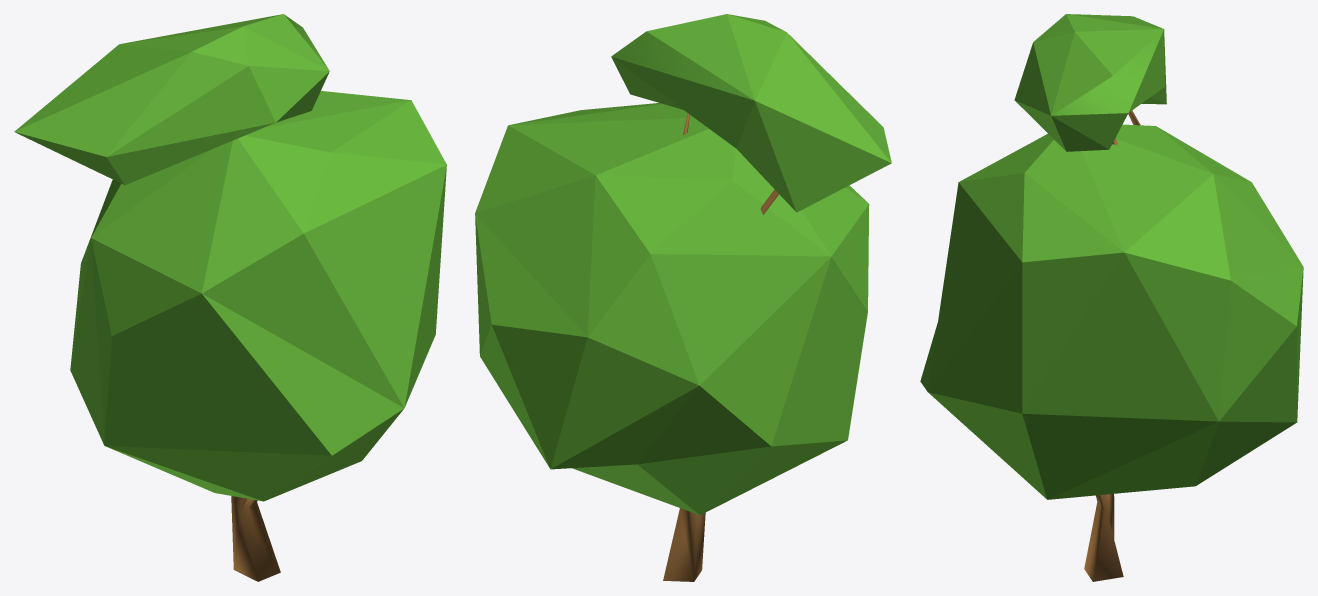
Rendered from Tree3.fbx.
The picture shows the model from 3 angles, left to right: view 1: azimuth 30°, elevation 25°; view 2: azimuth 150°, elevation 25°; view 3: azimuth 270°, elevation 25°; orthographic projection. The views are drawn at different scales.
Visible parts, largest first — view 1: Bush_3; view 2: Bush_3; view 3: Bush_3.
Boxes of the visible parts, box(x1,y1,x2,y2) form: Bush_3: box(14, 14, 446, 581); Bush_3: box(475, 14, 891, 581); Bush_3: box(920, 14, 1303, 581).
Size of the model in its own units: 179 by 246 by 162.
